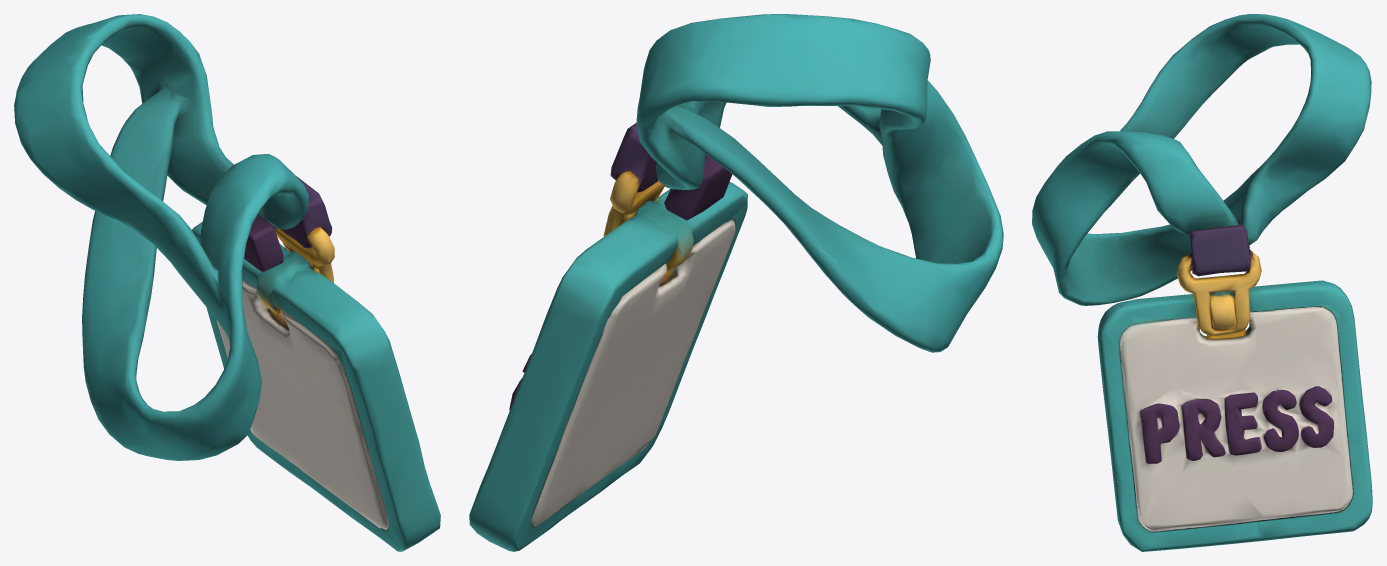
Rendered from powerup-press-pass.glb.
3 views of the same model, side by side, from view 1: azimuth 30°, elevation 25°; view 2: azimuth 150°, elevation 25°; view 3: azimuth 270°, elevation 25° (orthographic). The views are drawn at different scales.
Visible parts, largest first — view 1: tripo_node_6cc80743-39b3-436f-bc8f-26f0dfaa92f9; view 2: tripo_node_6cc80743-39b3-436f-bc8f-26f0dfaa92f9; view 3: tripo_node_6cc80743-39b3-436f-bc8f-26f0dfaa92f9.
Boxes of the visible parts, x1,y1,x2,y2 form: tripo_node_6cc80743-39b3-436f-bc8f-26f0dfaa92f9: (14, 14, 440, 551); tripo_node_6cc80743-39b3-436f-bc8f-26f0dfaa92f9: (469, 14, 1003, 551); tripo_node_6cc80743-39b3-436f-bc8f-26f0dfaa92f9: (1032, 14, 1372, 551).
Size of the model in its own units: 0.7113 by 1 by 0.7089.
Materials: 1 (1 with a texture image).
